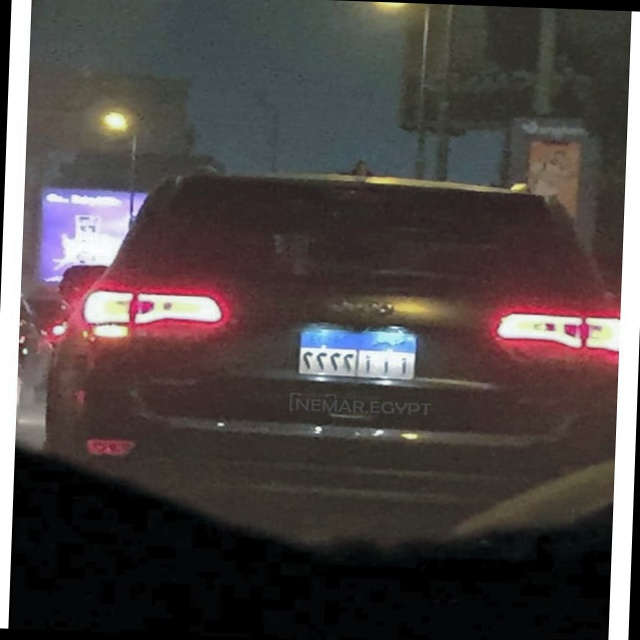License Plate: (294, 326, 421, 383)
